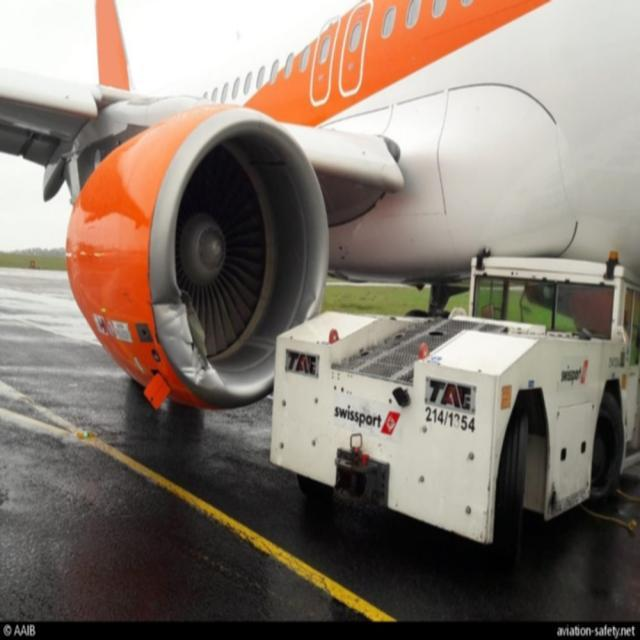crack: (177, 294, 213, 372)
dent: (300, 285, 334, 321), (177, 358, 212, 388), (155, 300, 184, 334)
